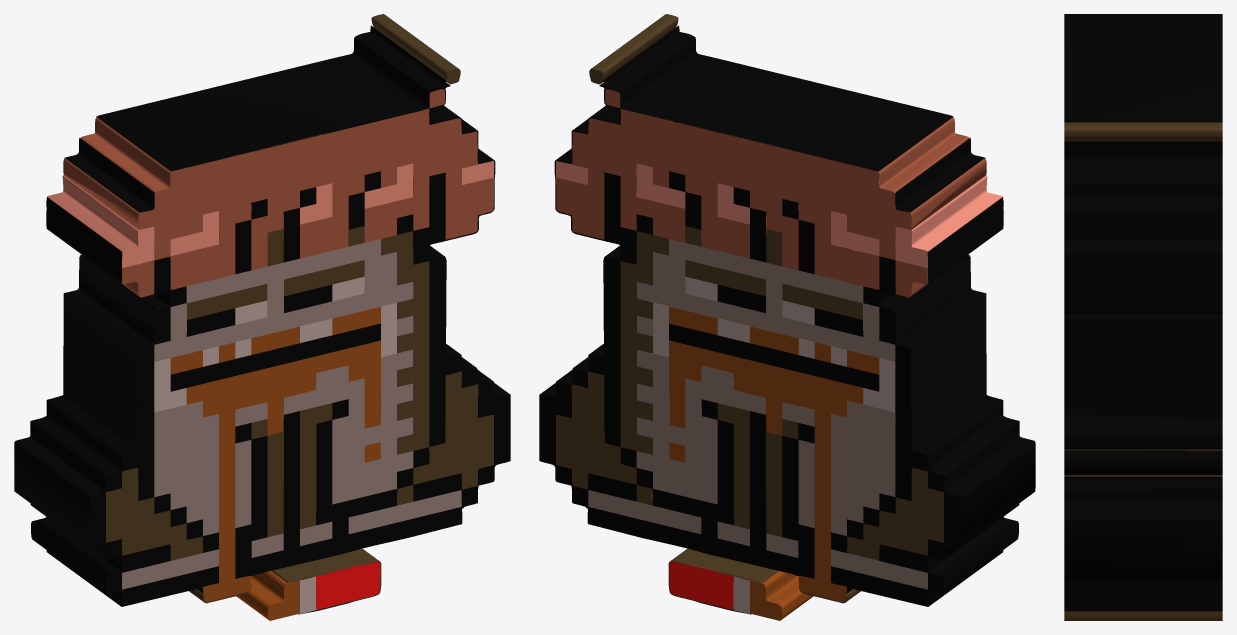
The model's file is Toadz_6384.glb.
3 renders of one model, left to right at view 1: azimuth 30°, elevation 25°; view 2: azimuth 150°, elevation 25°; view 3: azimuth 270°, elevation 25°, orthographic. The views are drawn at different scales.
Visible parts, largest first — view 1: Curve; view 2: Curve; view 3: Curve.
Boxes of the visible parts, <box> form: Curve: <box>14,14,510,620</box>; Curve: <box>539,14,1035,620</box>; Curve: <box>1064,14,1222,620</box>.
Size of the model in its own units: 3.24 by 3.73 by 1.
